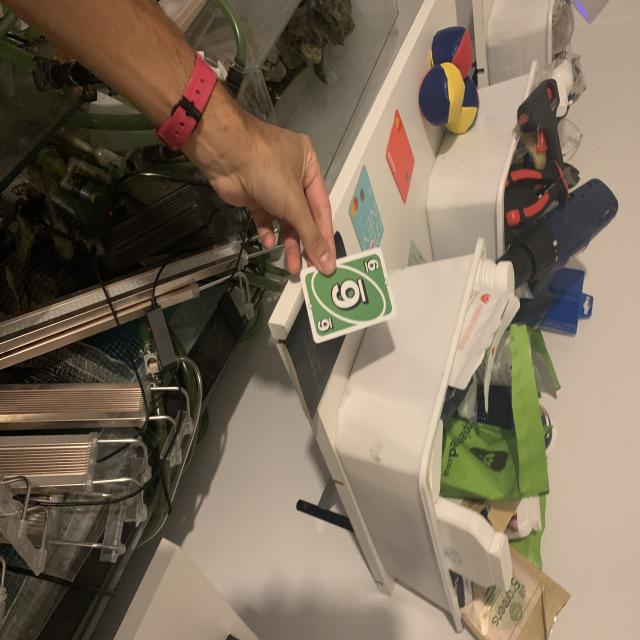lgreen-6: (361, 256, 381, 276)
